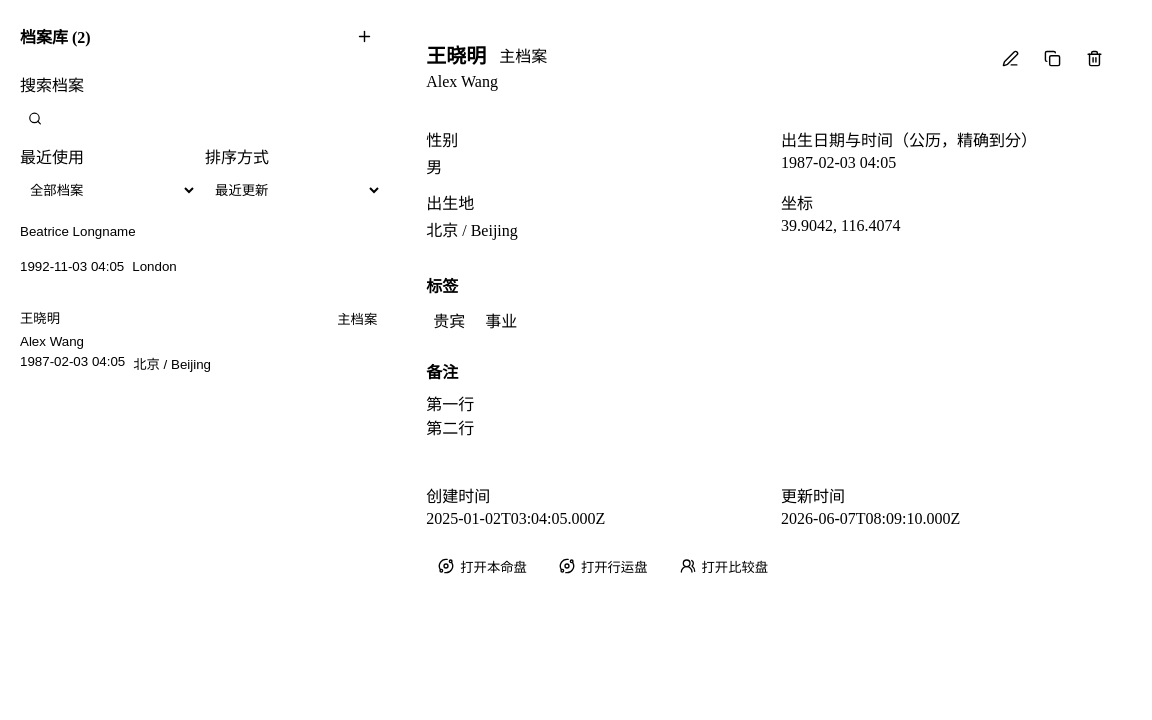
Test: supports directory search, sorting, selection, recent filtering, and primary state
This screenshot has width=1152, height=720.
expect the button with aria-label "选择档案" shows "Beatrice Longname": met, box [8,216,394,300]
Select "姓名" in the dropdown labelled "排序方式": {"x": 294, "y": 190} [205,172,382,208]
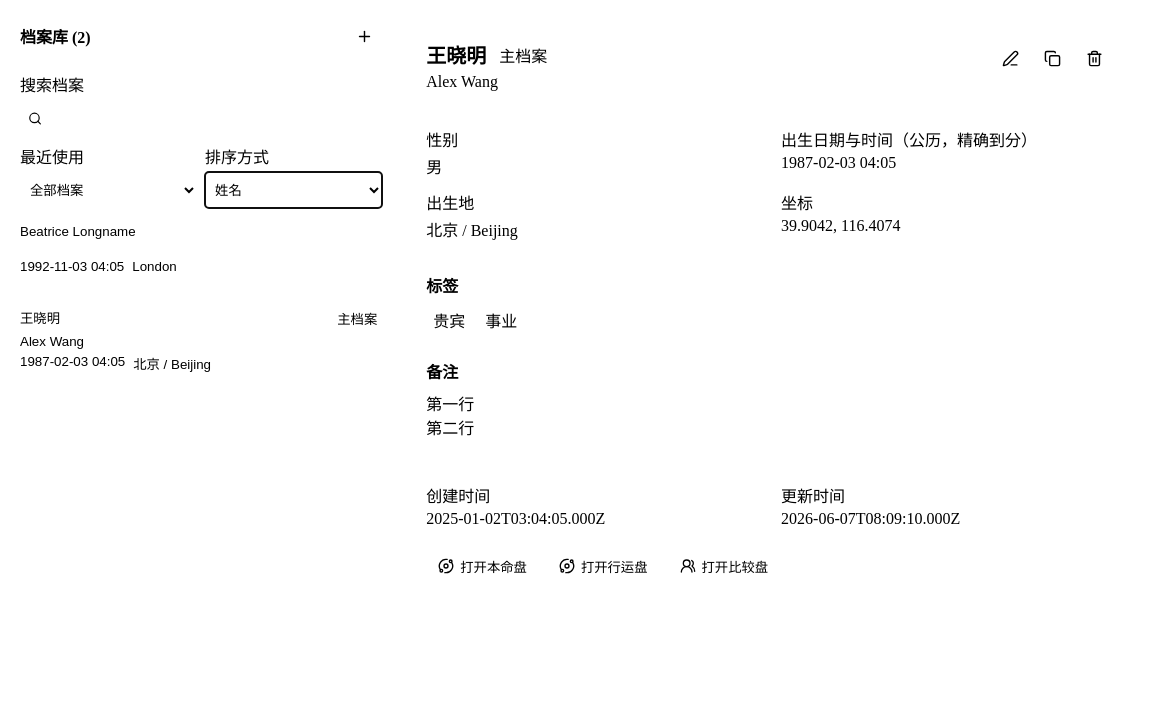
Click the button with aria-label "选择档案：Beatrice": {"x": 78, "y": 232} [8,216,394,300]
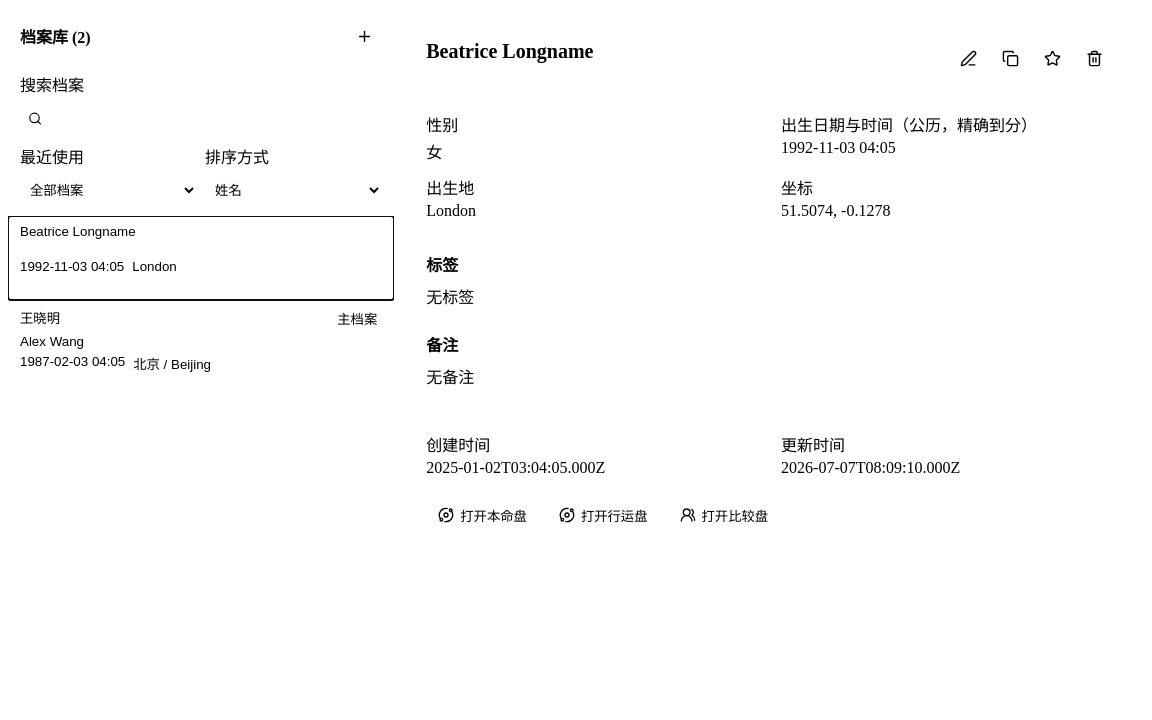
expect the heading "Beatrice Longname" is shown: met, box [426,40,593,63]
Click the button named "设为主档案": {"x": 1052, "y": 58} [1034,40,1070,76]
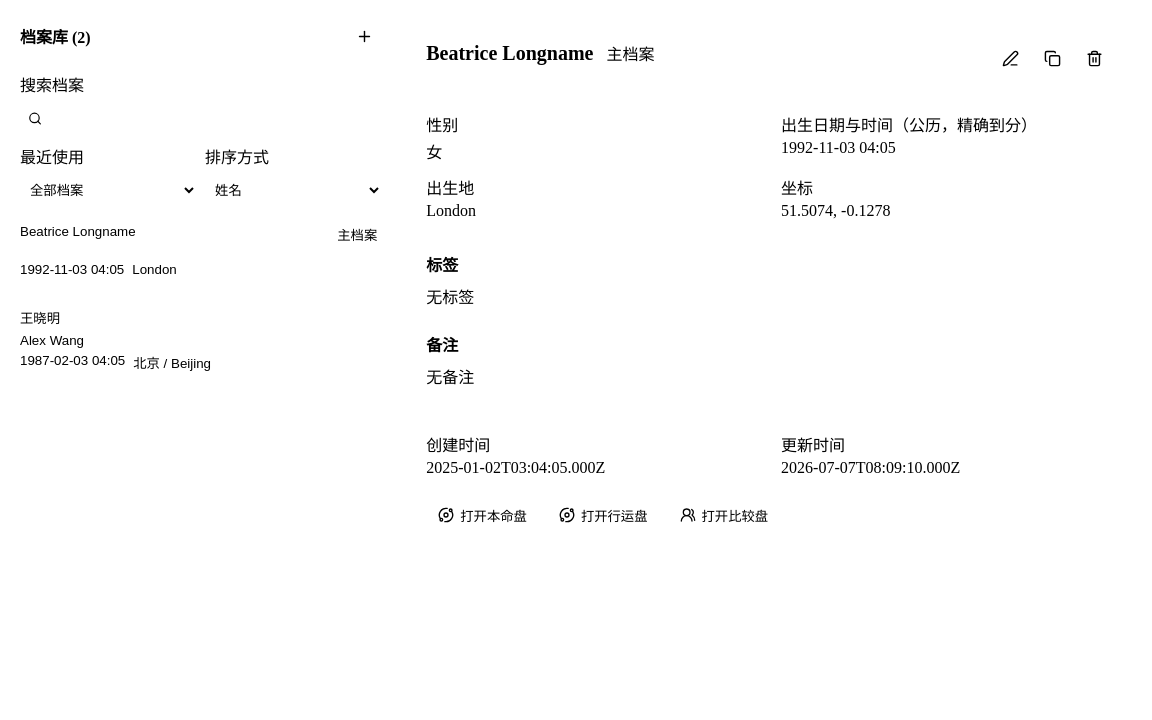
expect the 1st text "主档案" is shown: met, box [606,46,654,63]
Select "最近 7 天" in the dropdown labelled "最近使用": {"x": 109, "y": 190} [20,172,197,208]
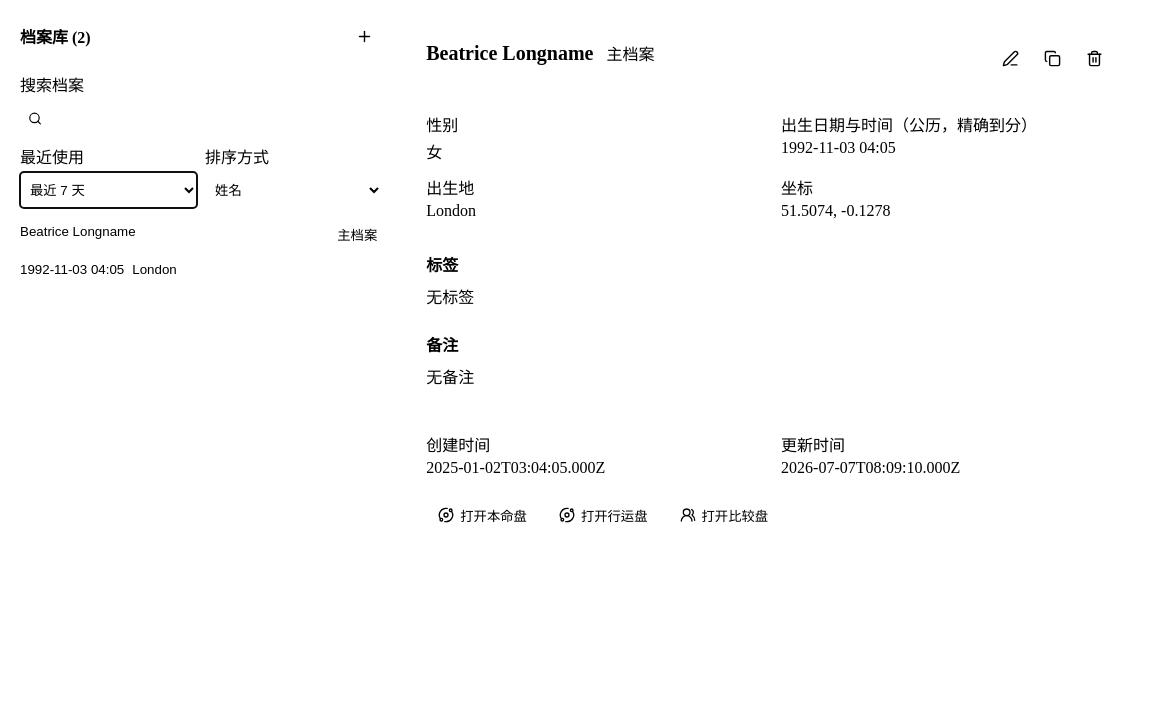
expect the number of buttons named "选择档案" is 1: met, box [8,216,394,300]
